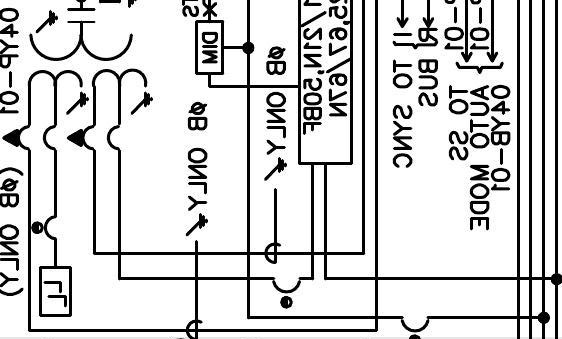115_cvt_1p: (2, 7, 154, 153)
DIM: (195, 20, 225, 75)
LL: (39, 266, 73, 317)
